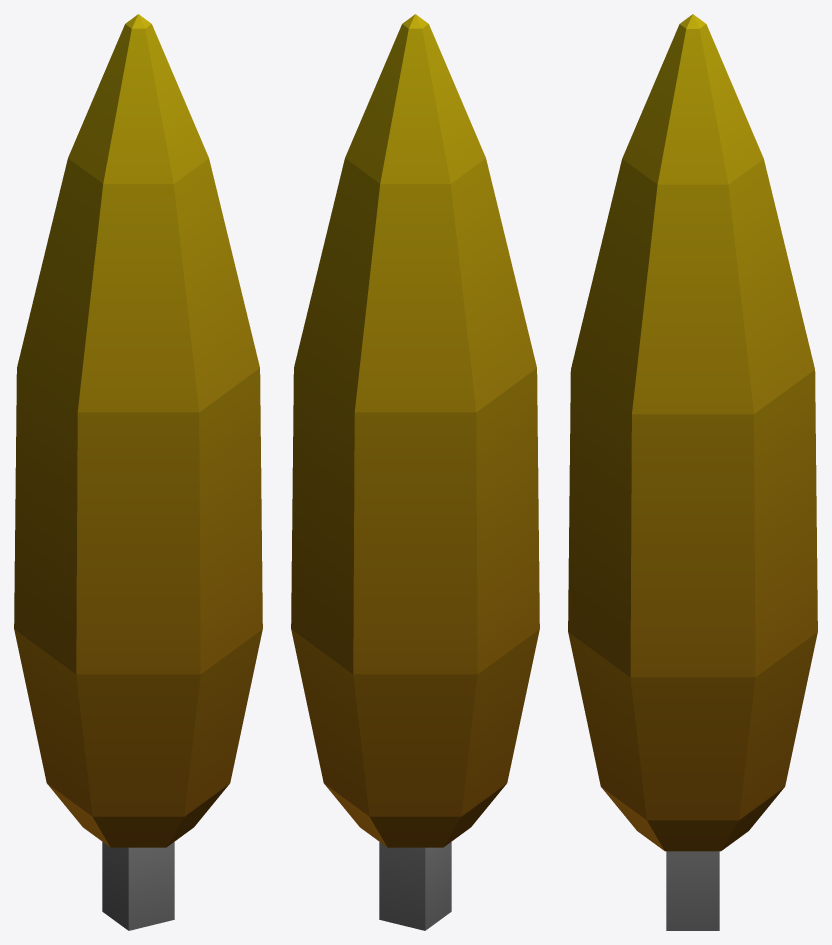
File: tree 6.fbx
3 renders of one model, left to right at view 1: azimuth 30°, elevation 25°; view 2: azimuth 150°, elevation 25°; view 3: azimuth 270°, elevation 25°, orthographic.
Parts seen in each view (by area): view 1: tree_6; view 2: tree_6; view 3: tree_6.
Boxes of the visible parts, <box> form: tree_6: <box>14,14,262,930</box>; tree_6: <box>291,14,539,930</box>; tree_6: <box>568,14,817,930</box>.
Bounding box in the file's own units: 135 × 625 × 156.
1 material, 1 textured.
